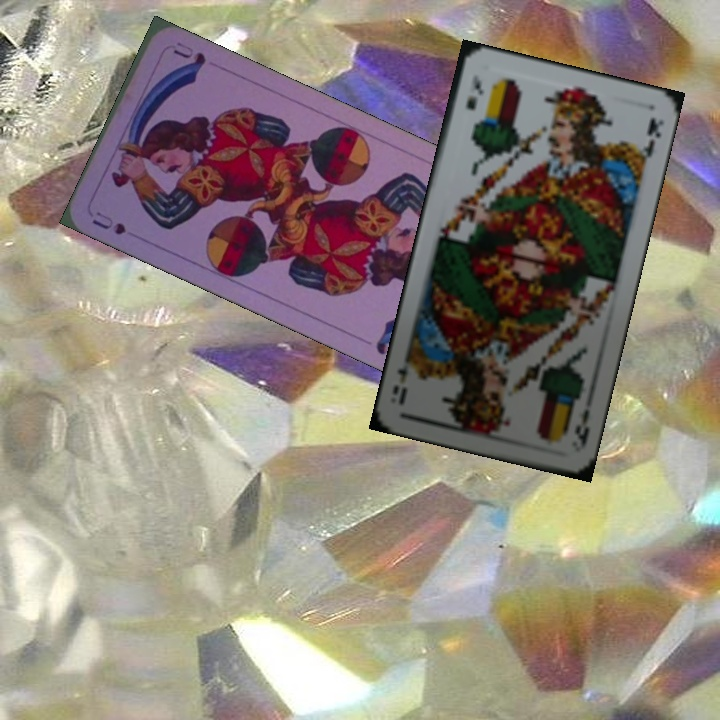EK: (461, 70, 486, 113), (571, 404, 593, 449)
SU: (88, 207, 129, 238)
